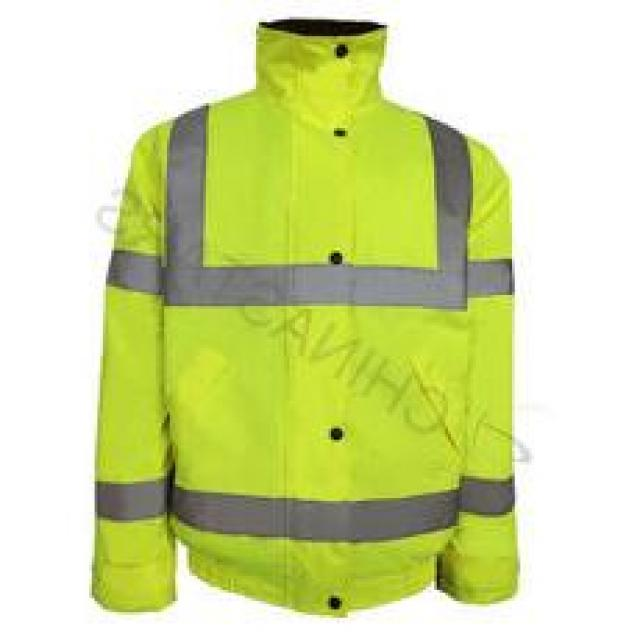Reflective-Jacket: (61, 50, 557, 637)
